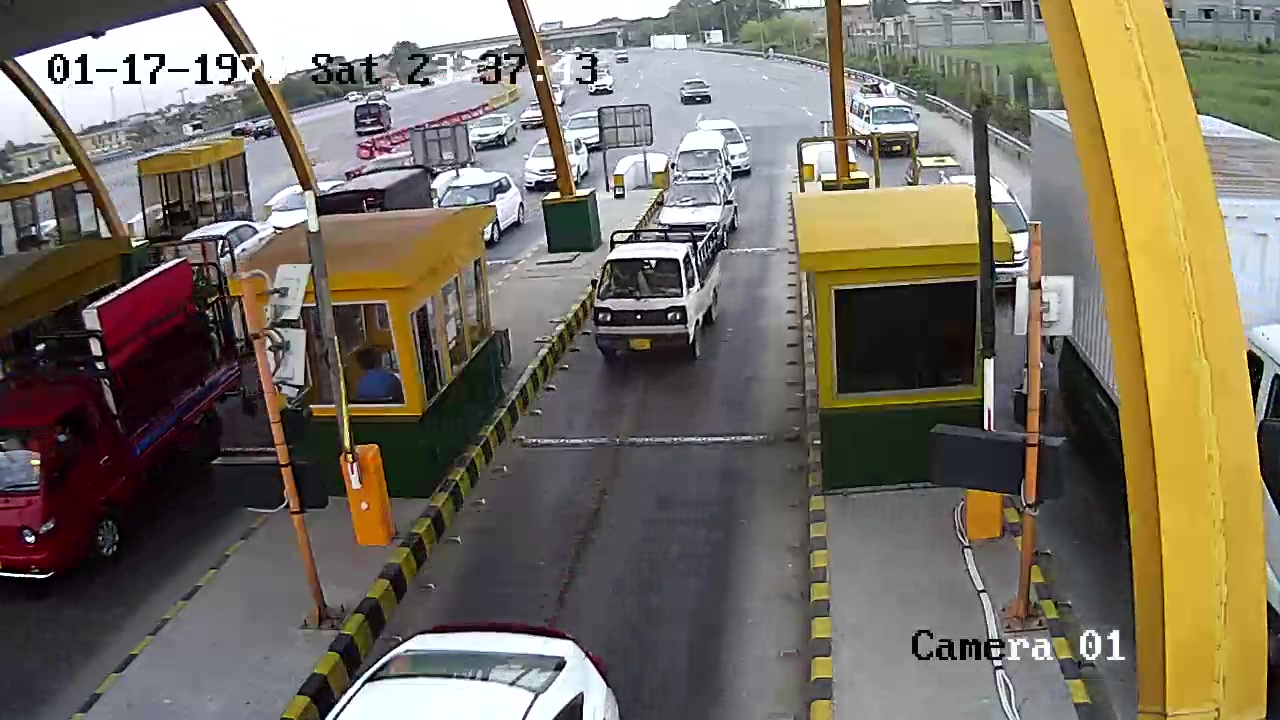F1: (590, 220, 743, 373)
